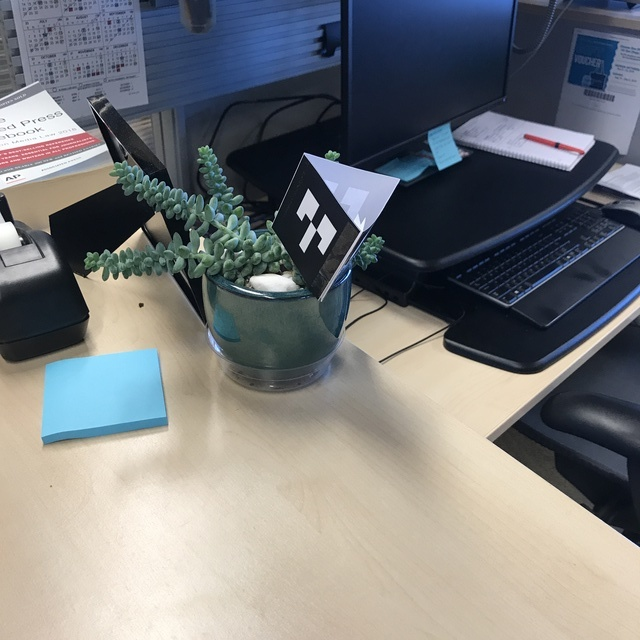ARTag: (272, 152, 400, 303)
